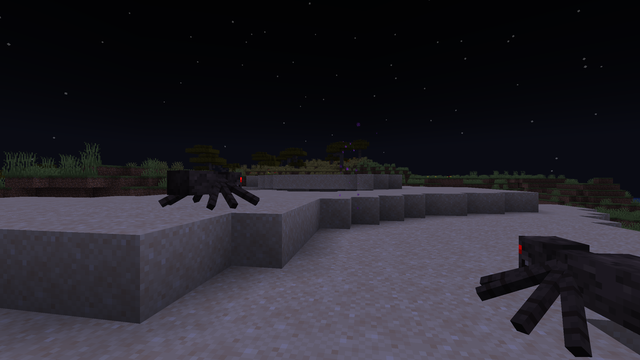araignees: (488, 228, 623, 354), (164, 166, 254, 210)
